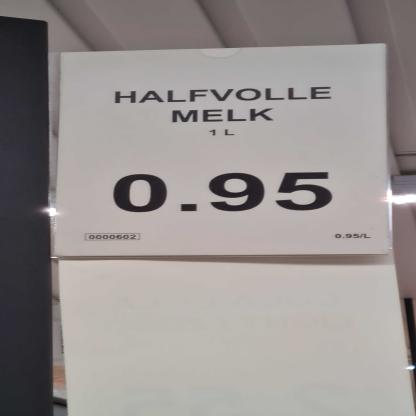prtg: (51, 44, 391, 259)
